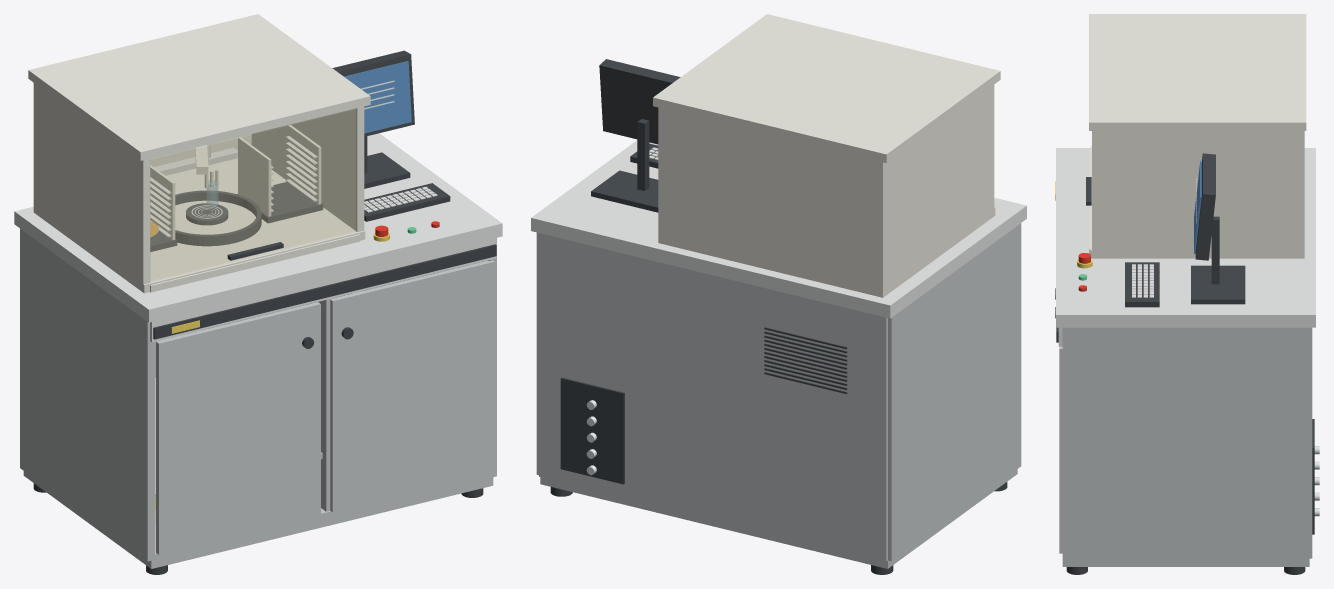
The model's file is delta12aq.glb.
The picture shows the model from 3 angles, left to right: view 1: azimuth 30°, elevation 25°; view 2: azimuth 150°, elevation 25°; view 3: azimuth 270°, elevation 25°; orthographic projection. The views are drawn at different scales.
Parts seen in each view (by area): view 1: door_panel_left, door_panel_right, cabinet_left_wall, bay_roof, door_glazing, worktop, bay_left, bay_base, bay_right, base_plinth, header_dark_strip, front_header (+15 smaller); view 2: cabinet_rear, cabinet_left_wall, bay_back, bay_roof, worktop, bay_left, rear_service_panel, monitor_bezel, base_plinth, bay_base, monitor_base, monitor_support (+1 smaller); view 3: cabinet_right_wall, bay_roof, bay_right, worktop, monitor_base, bay_base, base_plinth, monitor_bezel, bay_back, keyboard, cabinet_rear, door_panel_right (+3 smaller).
Part boxes in pixels (x1=…): door_panel_left: x1=156, y1=302, x2=320, y2=554; door_panel_right: x1=330, y1=260, x2=494, y2=512; cabinet_left_wall: x1=20, y1=228, x2=154, y2=561; bay_roof: x1=28, y1=14, x2=370, y2=160; door_glazing: x1=150, y1=109, x2=356, y2=281; worktop: x1=14, y1=133, x2=502, y2=322; bay_left: x1=34, y1=83, x2=150, y2=284; bay_base: x1=33, y1=158, x2=365, y2=293; bay_right: x1=251, y1=106, x2=364, y2=232; base_plinth: x1=23, y1=471, x2=493, y2=568; header_dark_strip: x1=153, y1=244, x2=496, y2=339; front_header: x1=150, y1=238, x2=496, y2=342; cabinet_rear: x1=539, y1=233, x2=887, y2=561; cabinet_left_wall: x1=888, y1=223, x2=1021, y2=561; bay_back: x1=658, y1=107, x2=886, y2=297; bay_roof: x1=653, y1=14, x2=1000, y2=163; worktop: x1=531, y1=140, x2=1026, y2=318; bay_left: x1=883, y1=85, x2=994, y2=294; rear_service_panel: x1=560, y1=377, x2=624, y2=484; monitor_bezel: x1=599, y1=59, x2=680, y2=144; base_plinth: x1=540, y1=469, x2=1017, y2=568; bay_base: x1=658, y1=207, x2=995, y2=297; monitor_base: x1=591, y1=170, x2=658, y2=212; monitor_support: x1=637, y1=119, x2=649, y2=190; cabinet_right_wall: x1=1062, y1=327, x2=1309, y2=560; bay_roof: x1=1089, y1=14, x2=1306, y2=130; bay_right: x1=1092, y1=131, x2=1302, y2=258; worktop: x1=1056, y1=148, x2=1315, y2=327; monitor_base: x1=1191, y1=265, x2=1245, y2=304; bay_base: x1=1090, y1=146, x2=1304, y2=258; base_plinth: x1=1062, y1=560, x2=1309, y2=566; monitor_bezel: x1=1195, y1=153, x2=1215, y2=260; bay_back: x1=1296, y1=131, x2=1304, y2=258; keyboard: x1=1125, y1=262, x2=1159, y2=307; cabinet_rear: x1=1309, y1=327, x2=1312, y2=558; door_panel_right: x1=1059, y1=346, x2=1062, y2=553.
Bounding box in the file's own units: 1.2 × 1.35 × 0.803.
